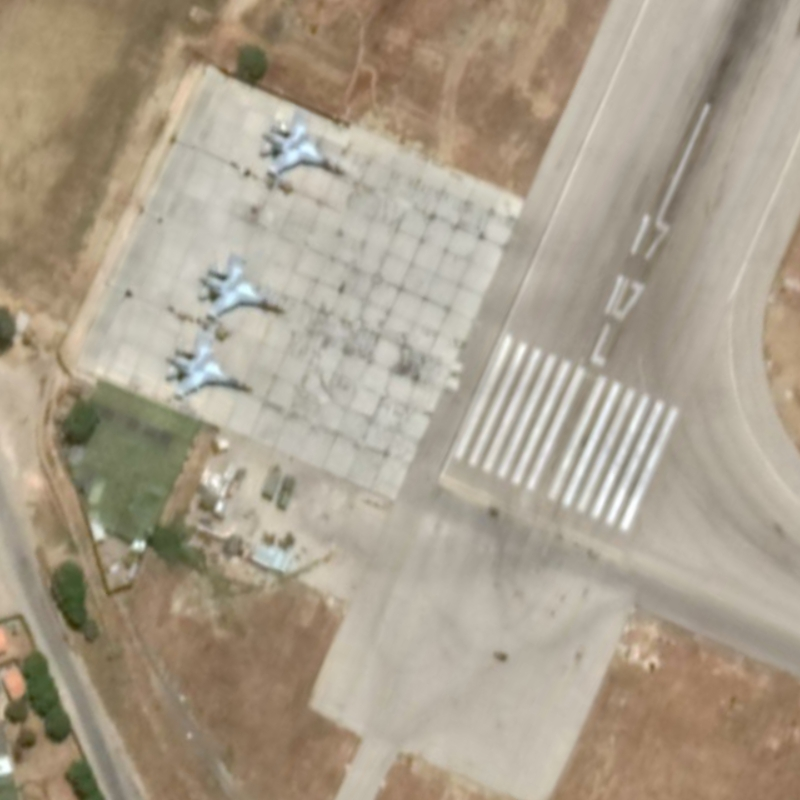A1: (196, 249, 289, 322), (258, 106, 349, 178), (163, 329, 255, 400)
